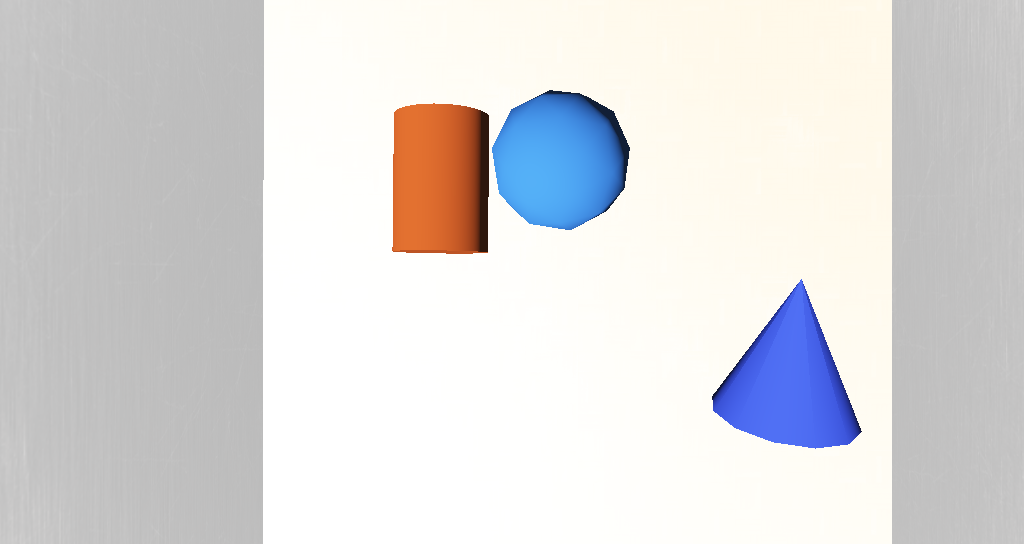cone: (421, 215, 468, 262)
cylinder: (566, 262, 633, 320)
sphere: (468, 212, 529, 255)
